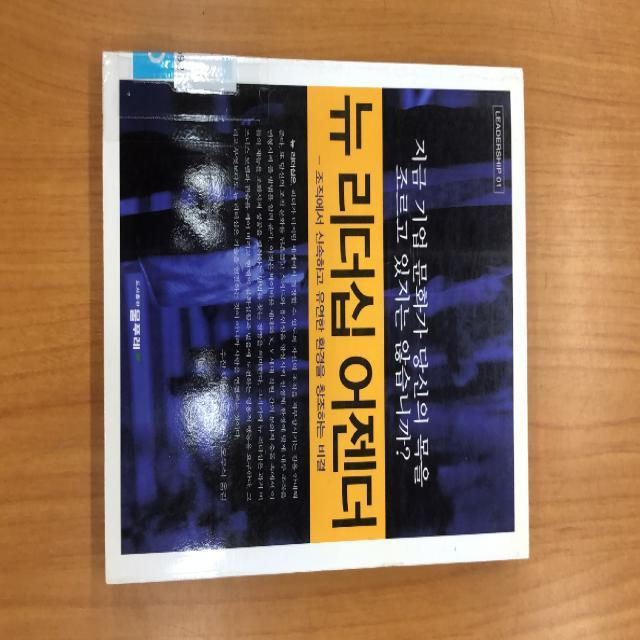Wornout: (99, 48, 114, 112), (517, 65, 528, 105)
